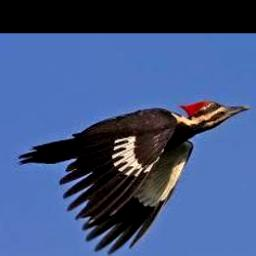Woodpecker: (17, 100, 249, 254)
